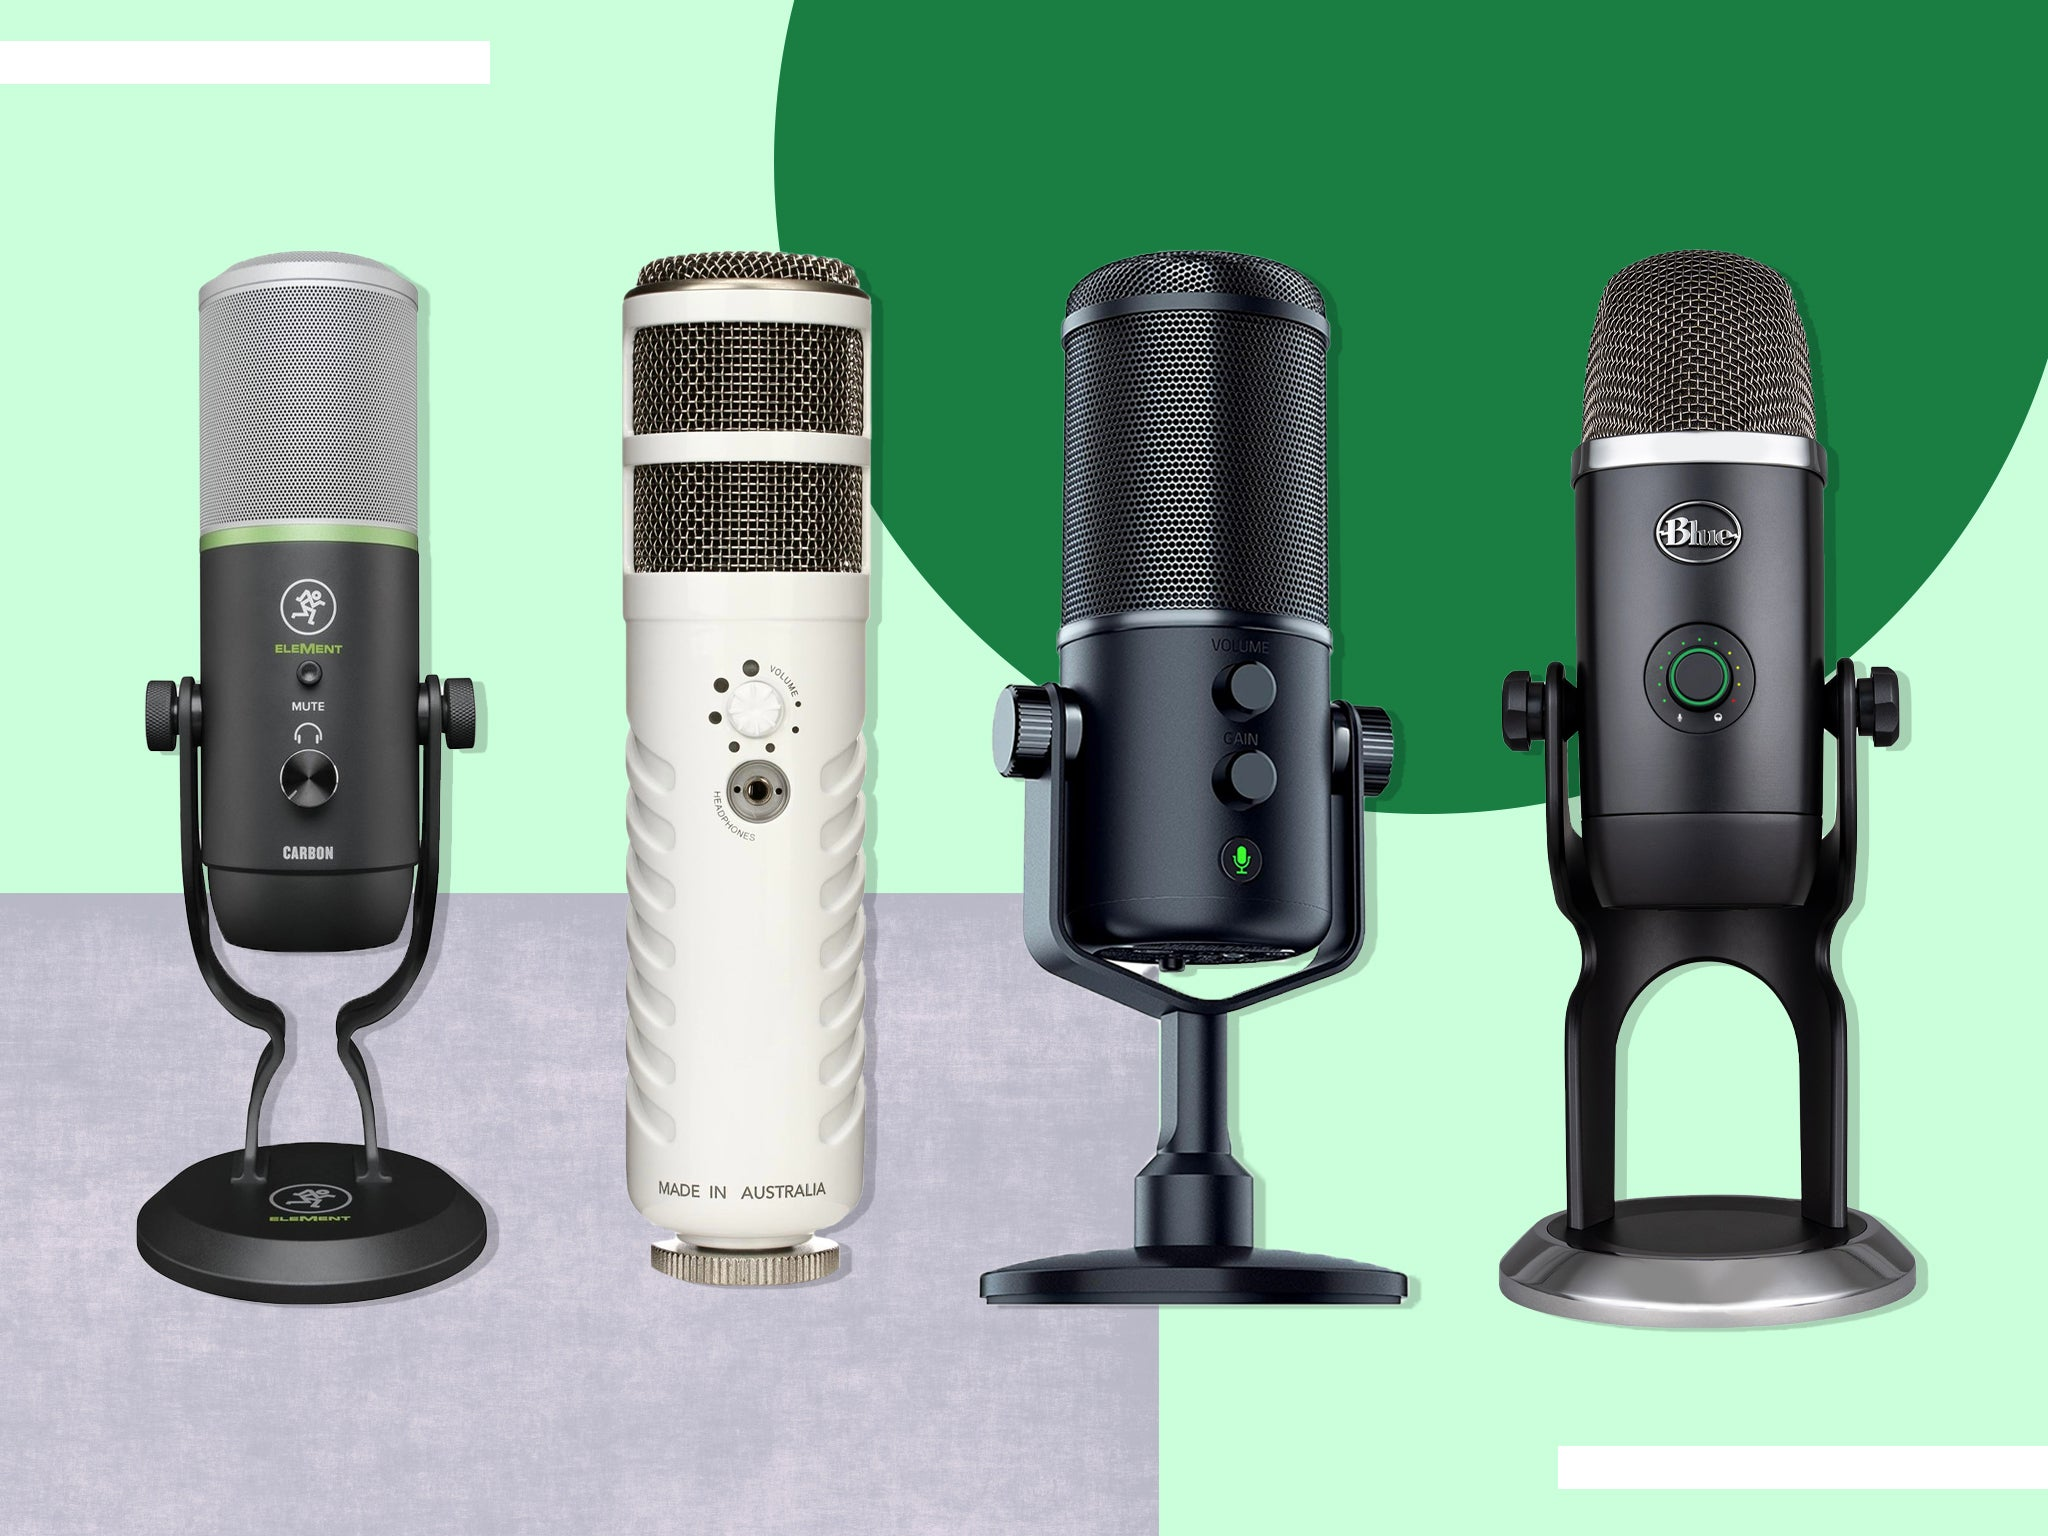microphone: (1493, 244, 1925, 1331), (977, 248, 1413, 1310), (132, 245, 493, 1312), (618, 247, 879, 1292)
